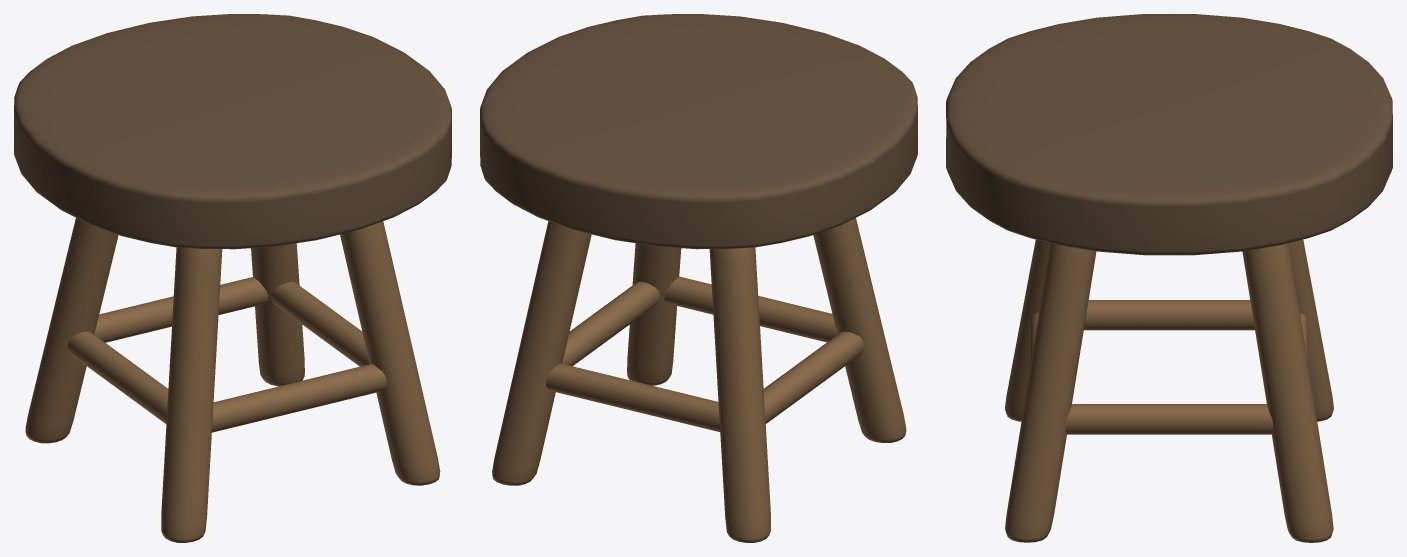
The model's file is Short_Stool.fbx.
3 renders of one model, left to right at view 1: azimuth 30°, elevation 25°; view 2: azimuth 150°, elevation 25°; view 3: azimuth 270°, elevation 25°, orthographic. The views are drawn at different scales.
Parts seen in each view (by area): view 1: Short_Stool_Seat1, Short_Stool_Legs; view 2: Short_Stool_Seat1, Short_Stool_Legs; view 3: Short_Stool_Seat1, Short_Stool_Legs.
Boxes of the visible parts, box(x1,y1,x2,y2) form: Short_Stool_Seat1: box(14, 14, 451, 249); Short_Stool_Legs: box(25, 218, 440, 542); Short_Stool_Seat1: box(480, 14, 917, 249); Short_Stool_Legs: box(492, 218, 906, 542); Short_Stool_Seat1: box(946, 14, 1392, 255); Short_Stool_Legs: box(1005, 239, 1333, 542).
Size of the model in its own units: 106 by 97.27 by 106.
